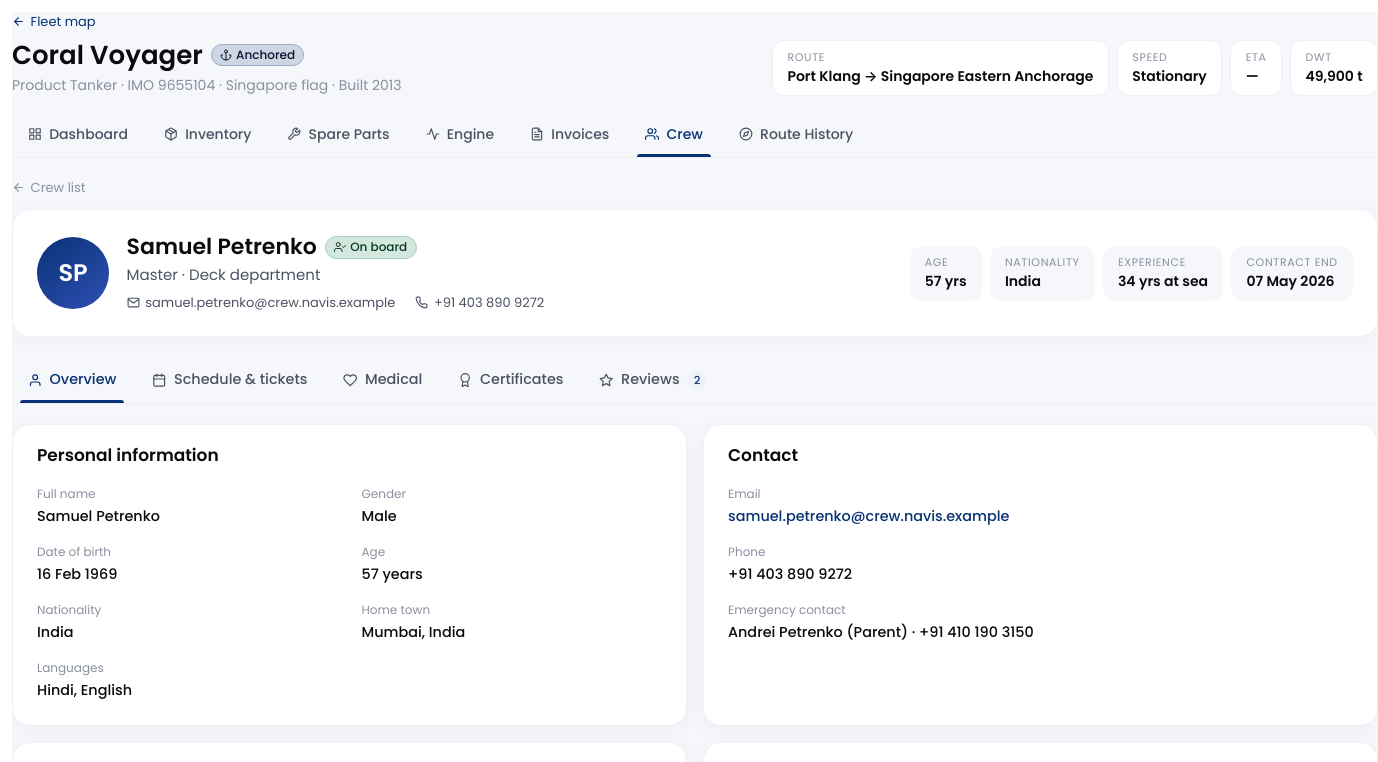
crew member page › switches to the Medical tab
What coordinates should you click on to do the following:
click the tab "Medical"
I would click on:
 (383, 380)
Its box is [327,357,438,403].
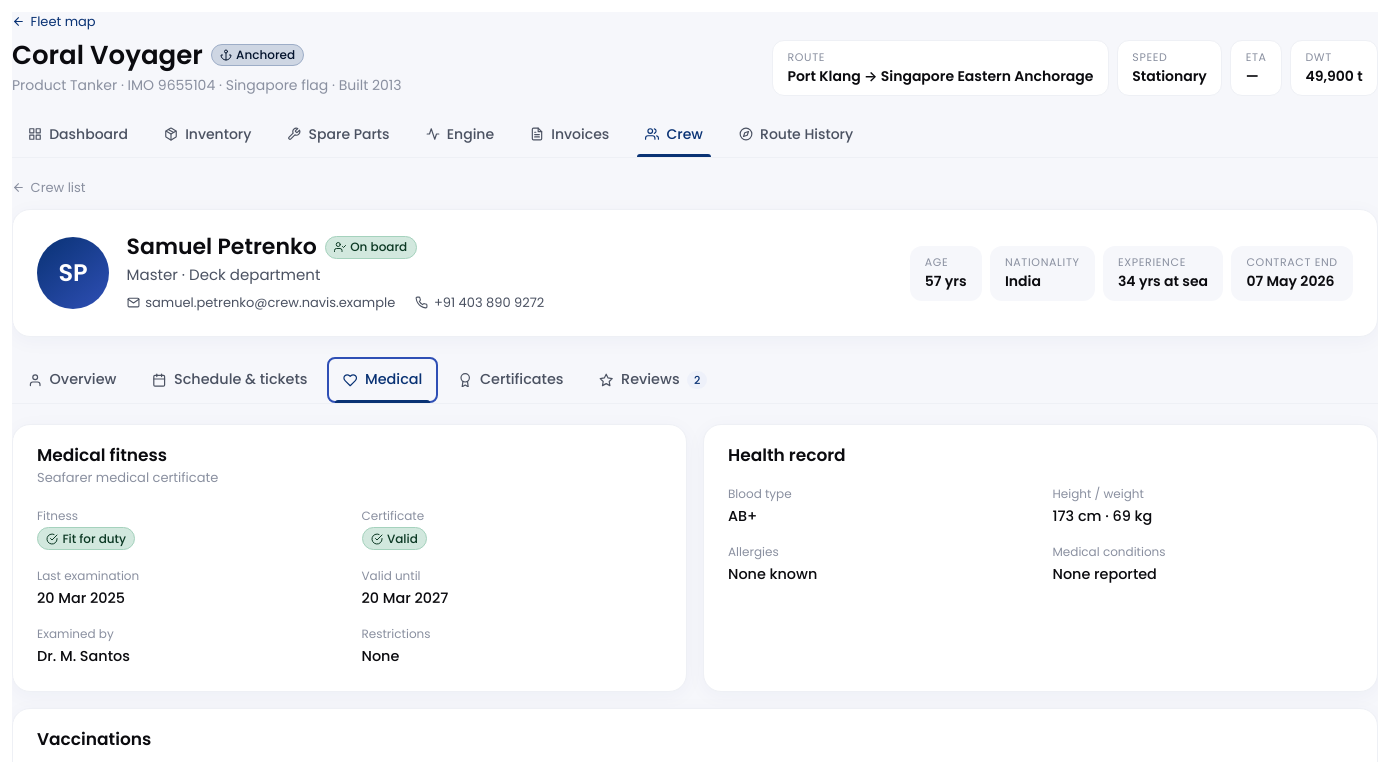
Result: the element "Medical fitness" is shown at [12,424,687,692]
